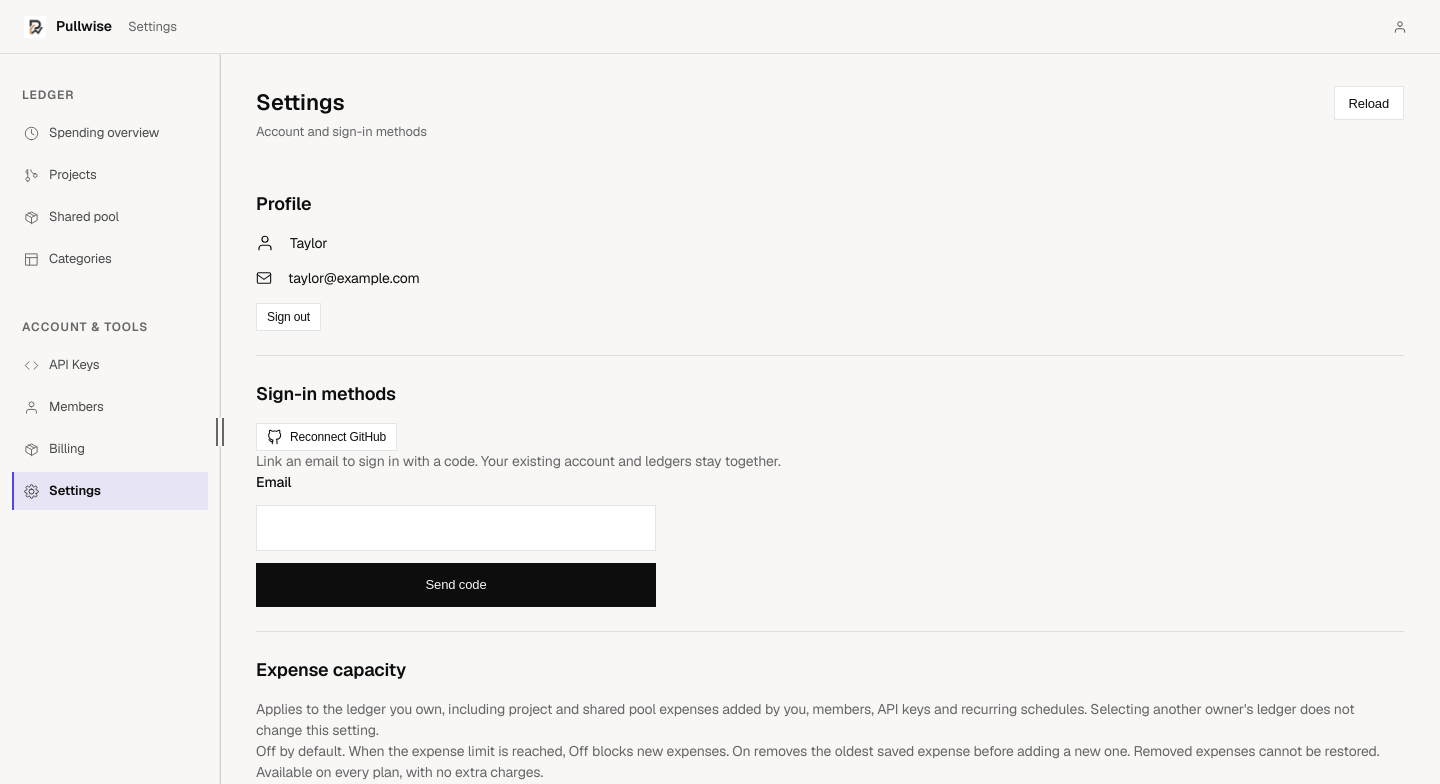
product settings › offers explicit first email binding without treating a GitHub profile email as verified sign-in
Expected: the text "Verified email" is not shown
Type "login@example.com" into the field labelled "Email" at (456, 528), box 256,505 -> 656,551
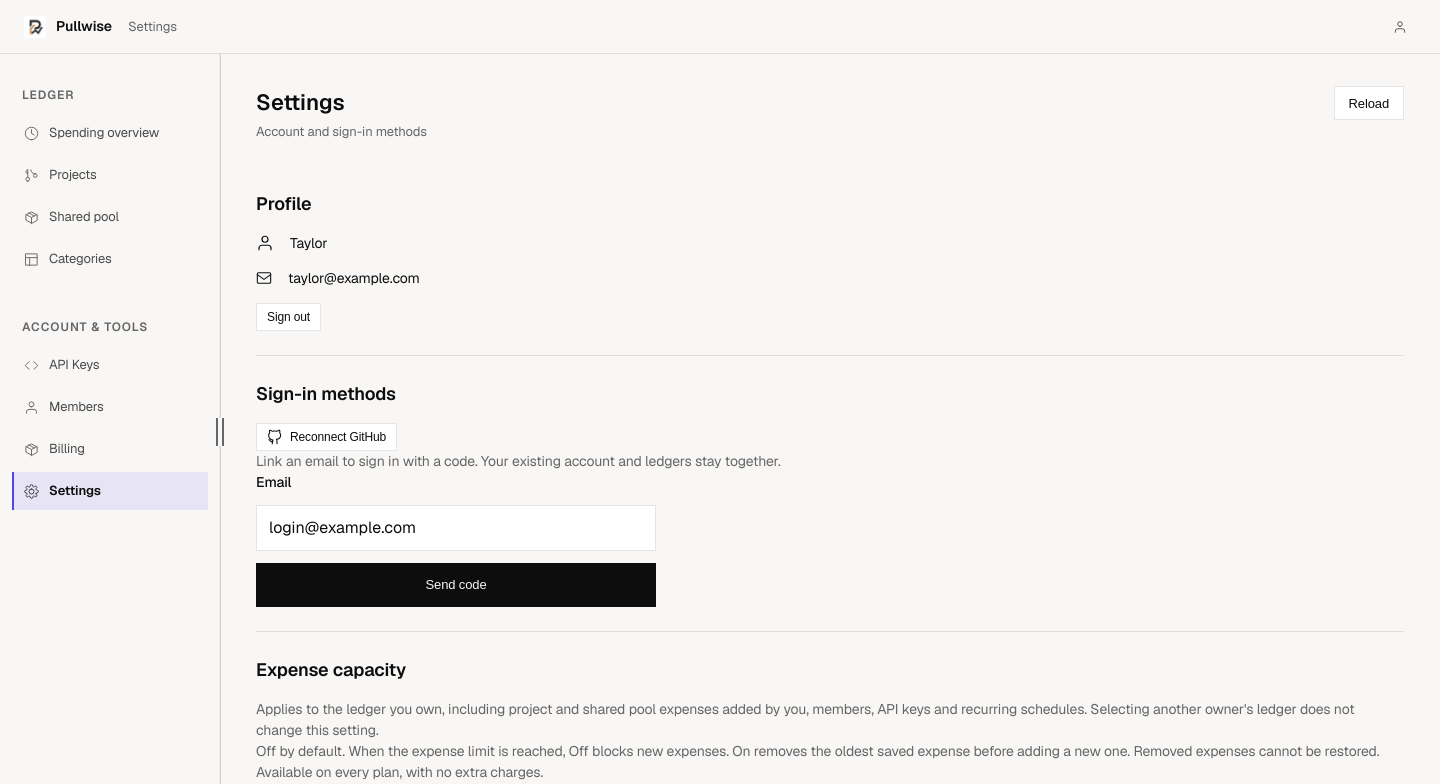
Click the button "Send code" at (456, 585), box 256,563 -> 656,607
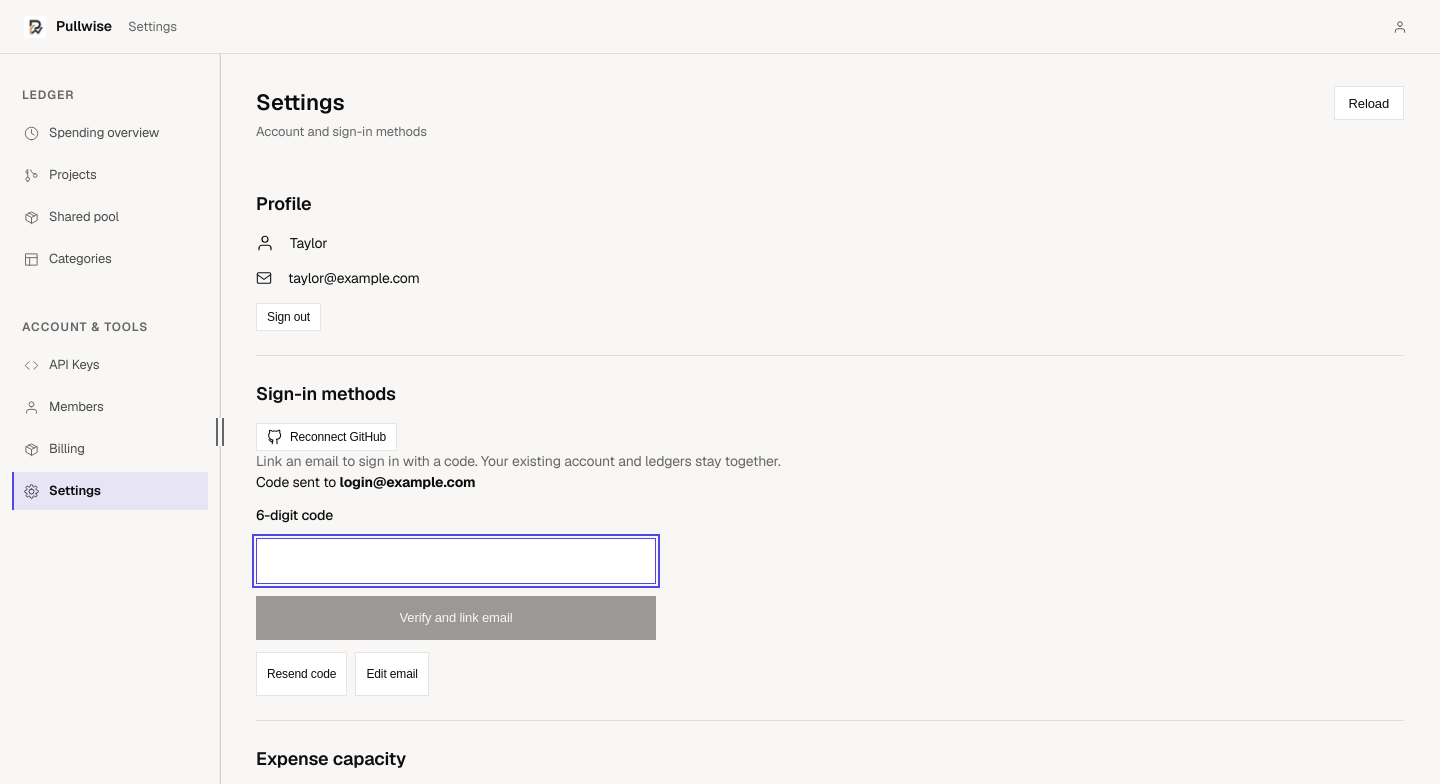
Type "012345" into the field labelled "6-digit code" at (456, 561), box 256,538 -> 656,584
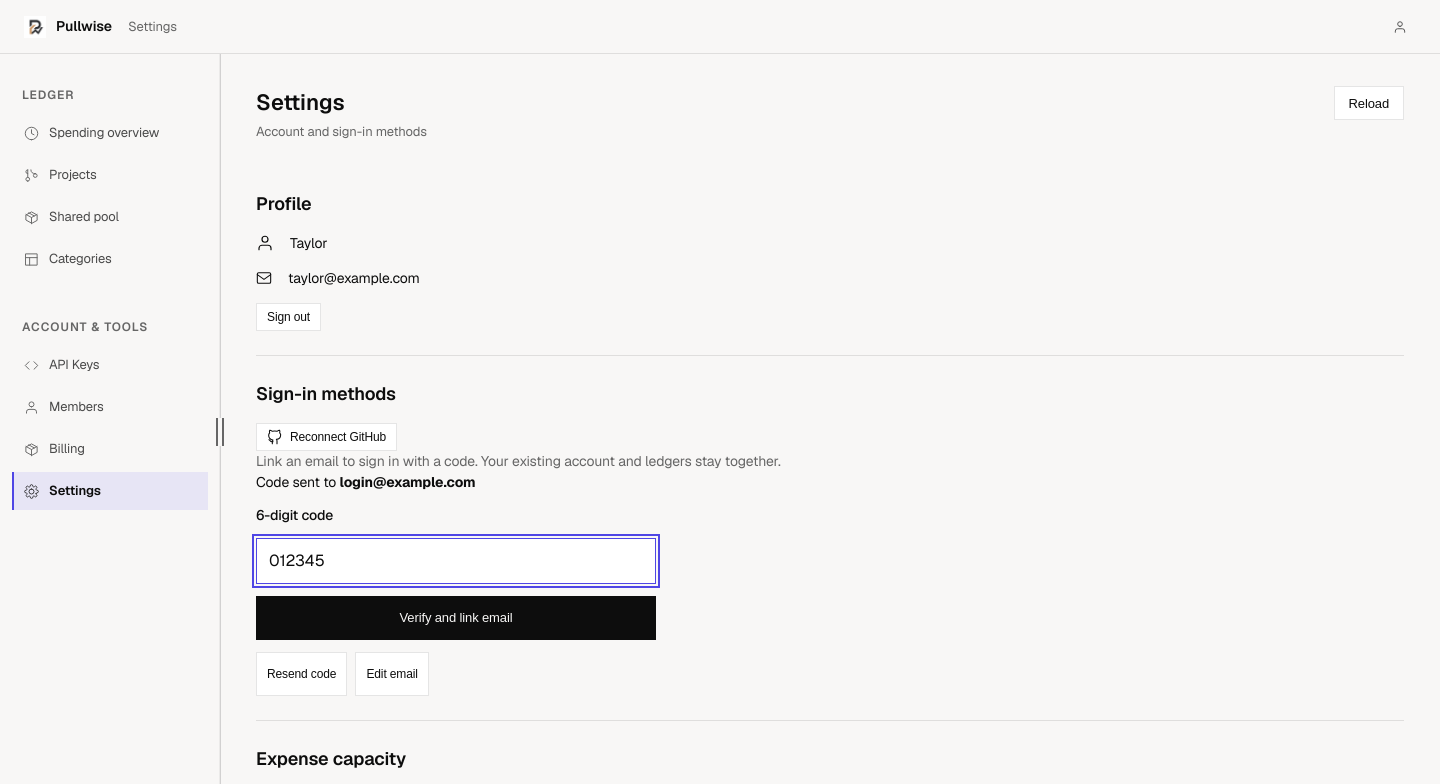
Click the button "Verify and link email" at (456, 618), box 256,596 -> 656,640
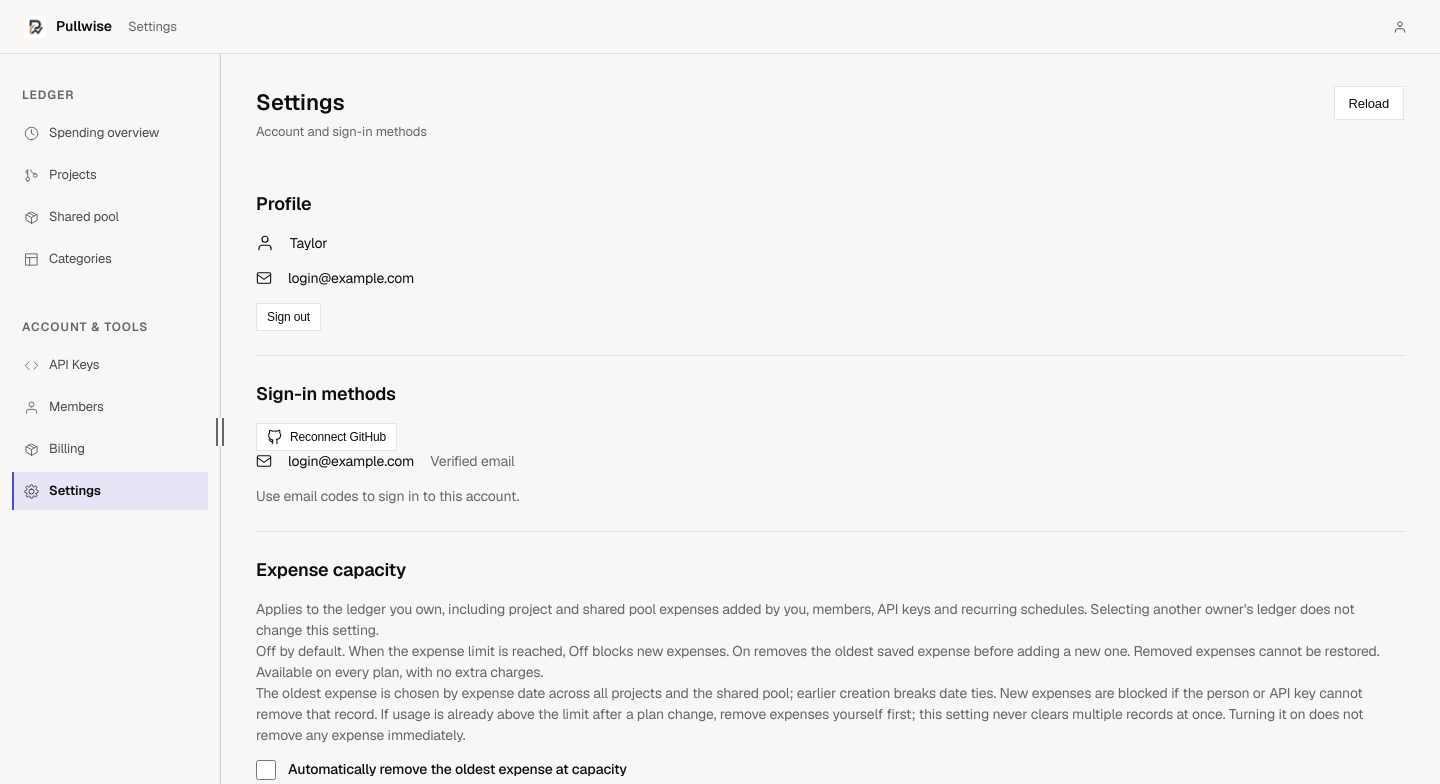
Now the text "Verified email" is shown, box 430,451 -> 515,472
